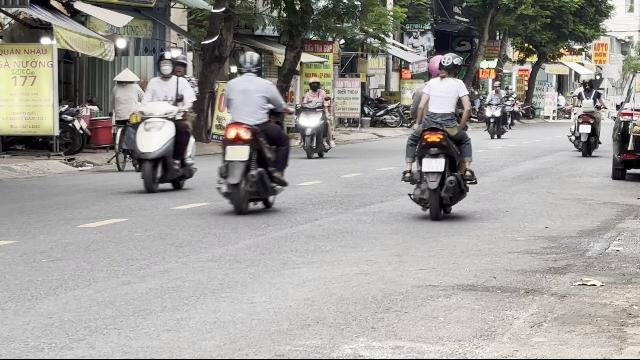helmet: (236, 50, 264, 75), (440, 52, 462, 78), (155, 52, 175, 77), (426, 54, 444, 78), (172, 54, 188, 76), (308, 76, 320, 90)
licenseplate: (225, 146, 249, 160), (422, 158, 444, 172)
motorcyclist: (400, 52, 478, 219), (214, 49, 292, 213), (130, 51, 198, 193), (294, 76, 336, 158)
